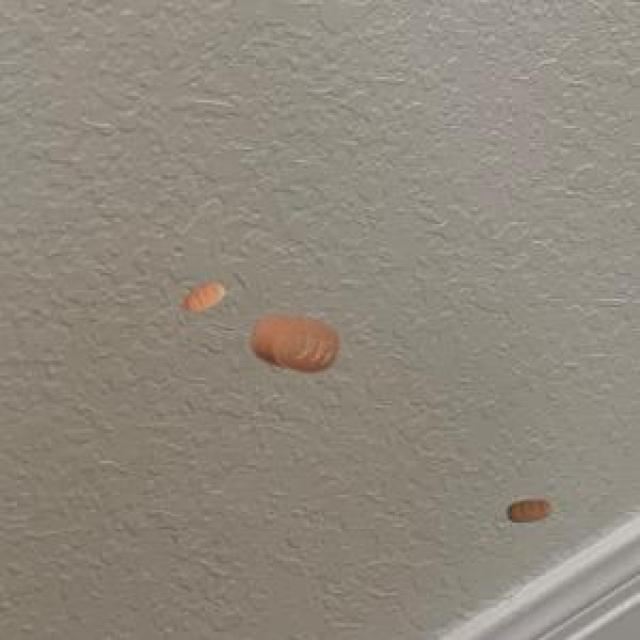Biogesic: (245, 307, 347, 382), (168, 268, 233, 329), (499, 483, 560, 530)
